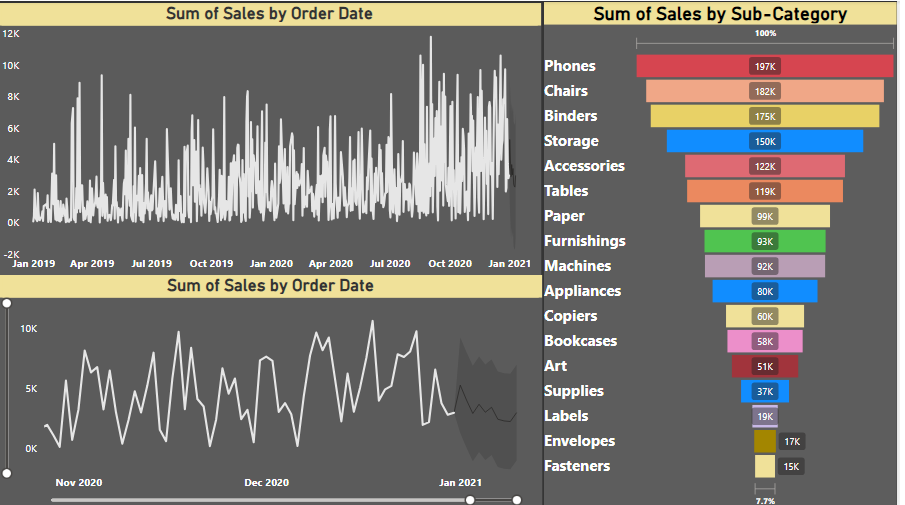

This screenshot's page, from the dashboard's own definition file:
{"tool":"powerbi","page":{"name":"Page 2","canvas":[1280,720],"ordinal":1},"visuals":[{"type":"lineChart","title":"Sum of Sales by Order Date","fields":{"Y":["Sum(Sheet1.Sales)"],"Category":["Sheet1.Order Date.Variation.Date Hierarchy.Year","Sheet1.Order Date.Variation.Date Hierarchy.Month","Sheet1.Order Date.Variation.Date Hierarchy.Day"]},"box":[5.7,2.8,769.6,389.8],"z":0},{"type":"funnel","fields":{"Y":["Sum(Sheet1.Sales)"],"Category":["Sheet1.Sub-Category"]},"box":[779.7,1.4,500.3,718.6],"z":1000},{"type":"lineChart","title":"Sum of Sales by Order Date","fields":{"Y":["Sum(Sheet1.Sales)"],"Category":["Sheet1.Order Date.Variation.Date Hierarchy.Year","Sheet1.Order Date.Variation.Date Hierarchy.Month","Sheet1.Order Date.Variation.Date Hierarchy.Day"]},"box":[7.1,388.3,769.6,330.2],"z":2000}]}

Visuals, with their boxes in screenshot pixels (x1, y1, x2, y2), scaled from the page's 1280x720 canvas onto the 905x505 screenshot:
"Sum of Sales by Order Date" lineChart: 4:2:548:275
funnel - Sum(Sheet1.Sales) x Sheet1.Sub-Category: 551:1:904:504
"Sum of Sales by Order Date" lineChart: 5:272:549:504
